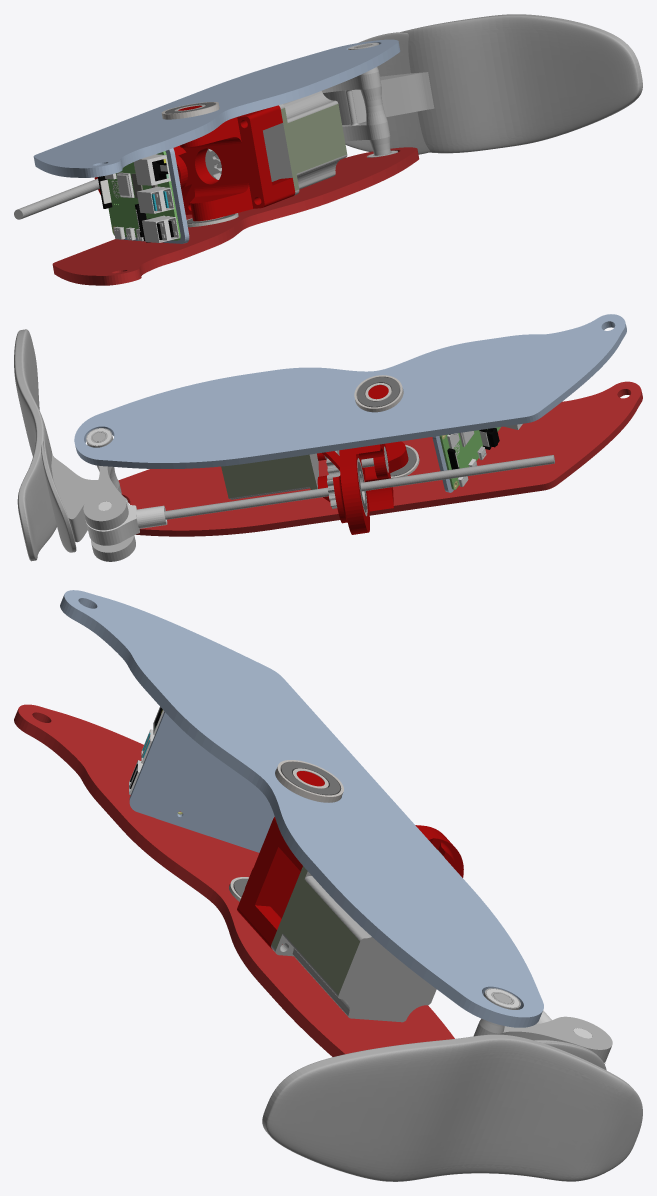
The model's file is prototype21.glb.
The picture shows the model from 3 angles, top to bottom: view 1: azimuth 30°, elevation 25°; view 2: azimuth 150°, elevation 25°; view 3: azimuth 270°, elevation 25°; orthographic projection. The views are drawn at different scales.
Parts seen in each view (by area): view 1: mydesign.stl; view 2: mydesign.stl; view 3: mydesign.stl.
Part boxes in pixels (x1,y1,x2,y2): mydesign.stl: [14, 14, 642, 285]; mydesign.stl: [14, 314, 642, 561]; mydesign.stl: [14, 590, 642, 1181].
Bounding box in the file's own units: 443 × 164 × 311.
